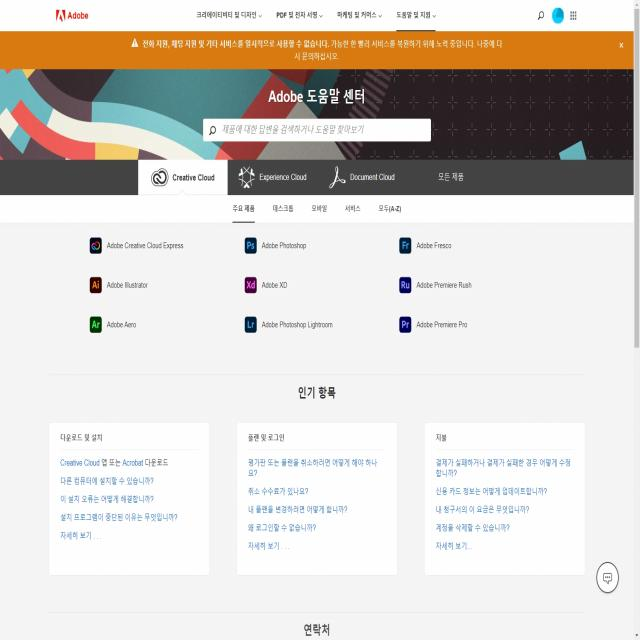menu-bar: (190, 3, 439, 28), (532, 5, 580, 28)
menu-panel: (135, 156, 493, 220)
search: (201, 115, 433, 143)
